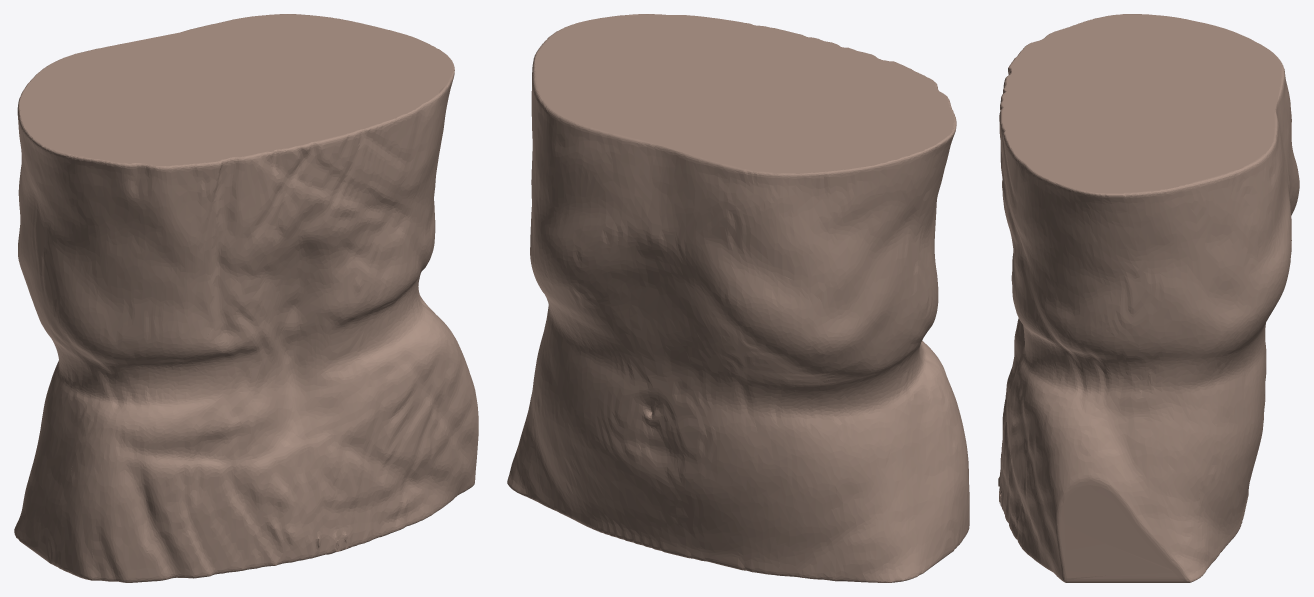
File: abdomen_skin.fbx
3 views of the same model, side by side, from view 1: azimuth 30°, elevation 25°; view 2: azimuth 150°, elevation 25°; view 3: azimuth 270°, elevation 25° (orthographic). The views are drawn at different scales.
Visible parts, largest first — view 1: abdomen_skin; view 2: abdomen_skin; view 3: abdomen_skin.
Boxes of the visible parts, box(x1,y1,x2,y2) form: abdomen_skin: box(14, 14, 478, 582); abdomen_skin: box(507, 14, 969, 582); abdomen_skin: box(998, 14, 1299, 582).
Size of the model in its own units: 45.5 by 44.93 by 31.64.
